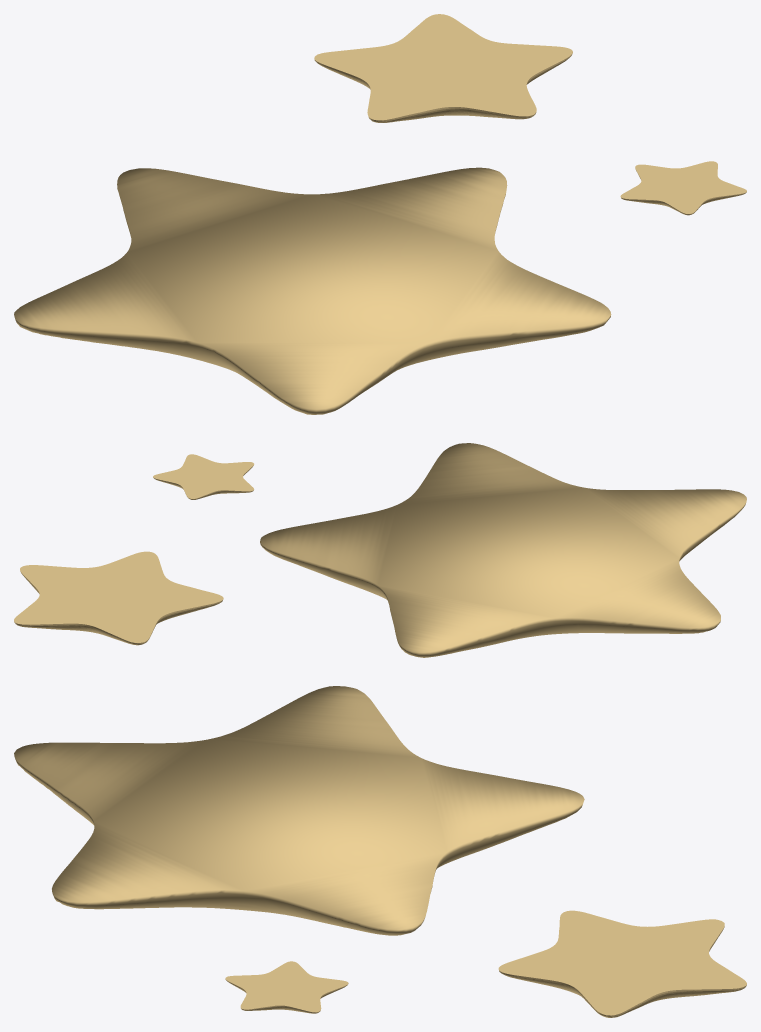
Rendered from stars_tile_back_v2.fbx.
3 renders of one model, top to bottom at view 1: azimuth 30°, elevation 25°; view 2: azimuth 150°, elevation 25°; view 3: azimuth 270°, elevation 25°, orthographic. The views are drawn at different scales.
Parts seen in each view (by area): view 1: inflated_star.004; view 2: inflated_star.004; view 3: inflated_star.004.
Boxes of the visible parts, x1,y1,x2,y2 form: inflated_star.004: (14,14,746,414); inflated_star.004: (14,443,746,657); inflated_star.004: (14,686,746,1017).
Bounding box in the file's own units: 738 × 58.05 × 694.
